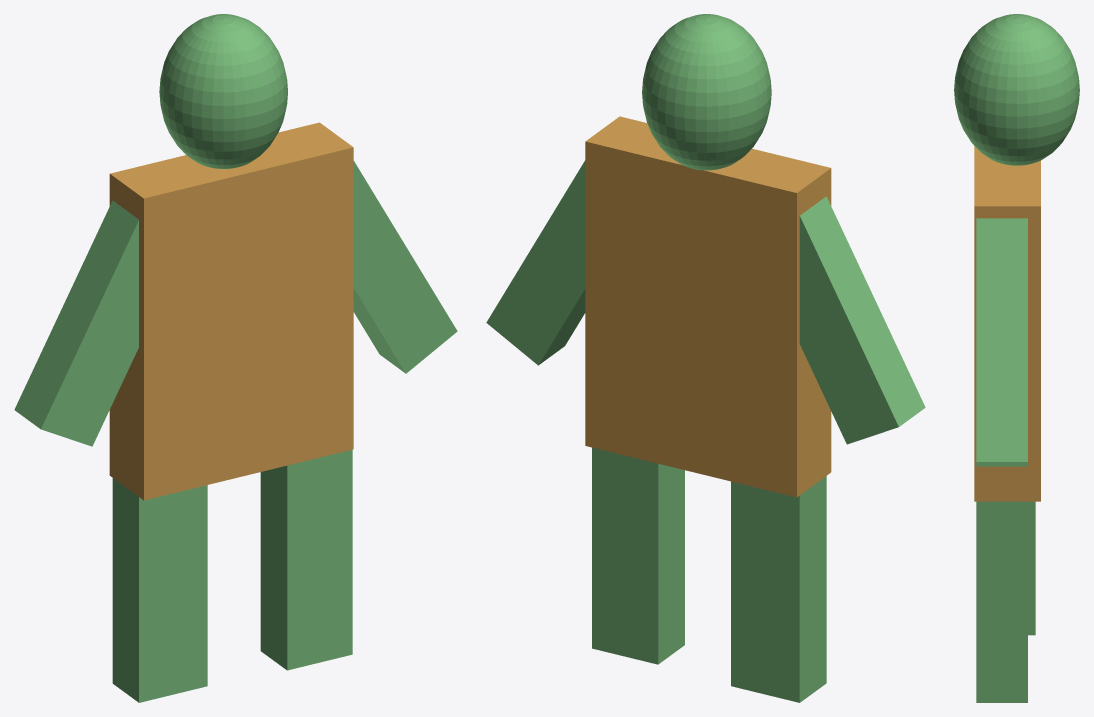
Rendered from Ogre.glb.
3 renders of one model, left to right at view 1: azimuth 30°, elevation 25°; view 2: azimuth 150°, elevation 25°; view 3: azimuth 270°, elevation 25°, orthographic. The views are drawn at different scales.
Parts seen in each view (by area): view 1: Mesh_Mesh_head_geo.001_lambert2SG.001; view 2: Mesh_Mesh_head_geo.001_lambert2SG.001; view 3: Mesh_Mesh_head_geo.001_lambert2SG.001.
Part boxes in pixels (box(x1,y1,x2,y2)): Mesh_Mesh_head_geo.001_lambert2SG.001: box(14, 14, 457, 702); Mesh_Mesh_head_geo.001_lambert2SG.001: box(486, 14, 925, 702); Mesh_Mesh_head_geo.001_lambert2SG.001: box(954, 14, 1079, 702).
Bounding box in the file's own units: 63 × 94.25 × 17.
